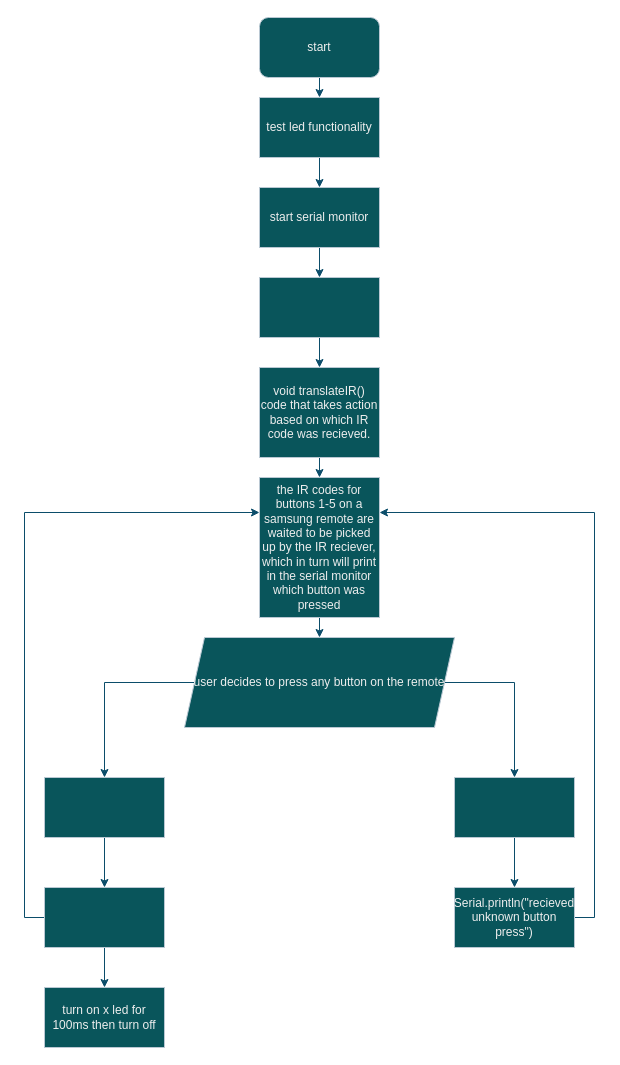
This 620x1065 diagram has some shape labels left out. Each missing label, with the box of its shape:
any buttons other than 1-5 on the remote pressed: (454, 776, 574, 838)
button 1-5 pressed: (44, 776, 164, 838)
Serial.println("x recieved") (x = # of button pressed): (44, 886, 164, 948)
start reciever: (258, 276, 380, 338)
